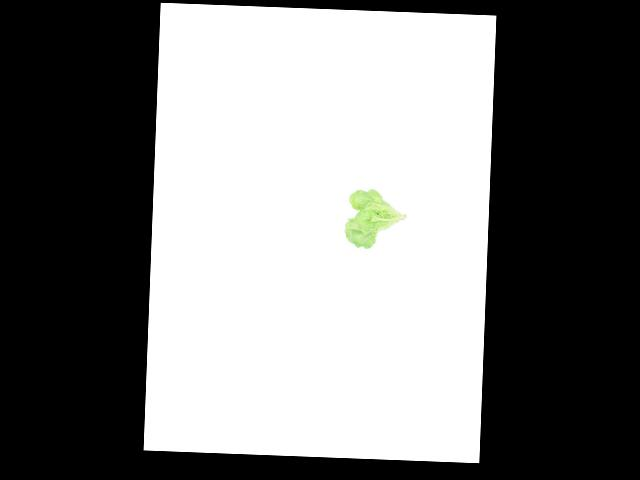lettuce: (340, 186, 409, 253)
